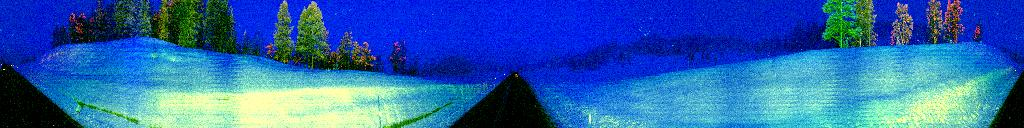pole: (586, 88, 594, 128), (375, 93, 383, 128)
